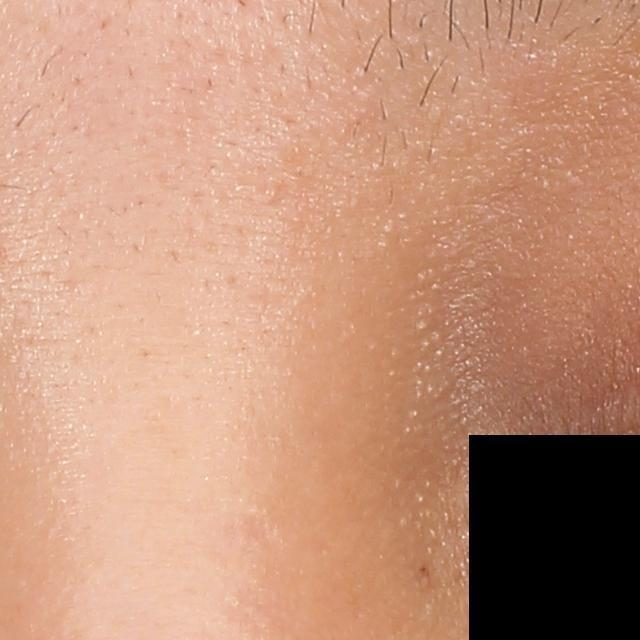nevus: (416, 561, 432, 577)
